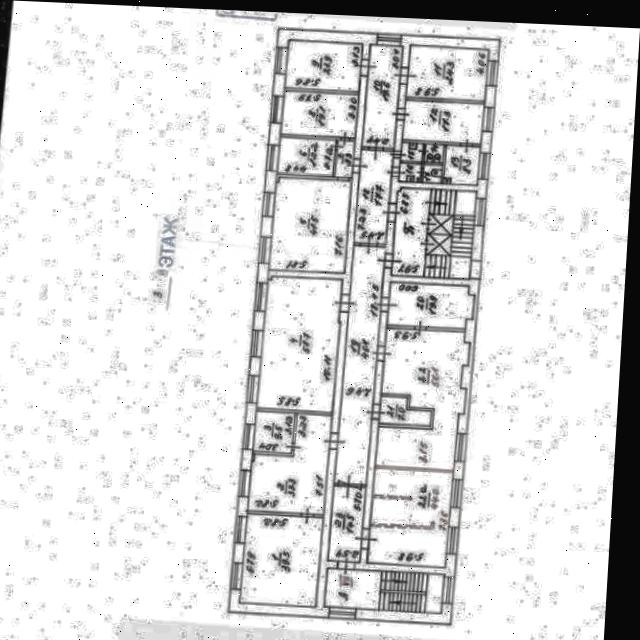room: (373, 327, 468, 473), (253, 276, 339, 415), (333, 246, 381, 486), (246, 412, 329, 518), (365, 468, 451, 570), (238, 513, 321, 610), (265, 178, 346, 276), (323, 568, 443, 614), (420, 189, 472, 282), (401, 46, 483, 103), (357, 46, 396, 150), (384, 284, 471, 330), (281, 42, 357, 93), (397, 100, 479, 146), (349, 151, 389, 245), (277, 92, 353, 140), (387, 188, 426, 279), (326, 487, 364, 565), (273, 139, 330, 178), (250, 412, 291, 456), (438, 145, 475, 187), (376, 398, 429, 427), (330, 142, 350, 180), (394, 164, 417, 183), (396, 144, 418, 163), (420, 145, 439, 164), (418, 166, 437, 184)
